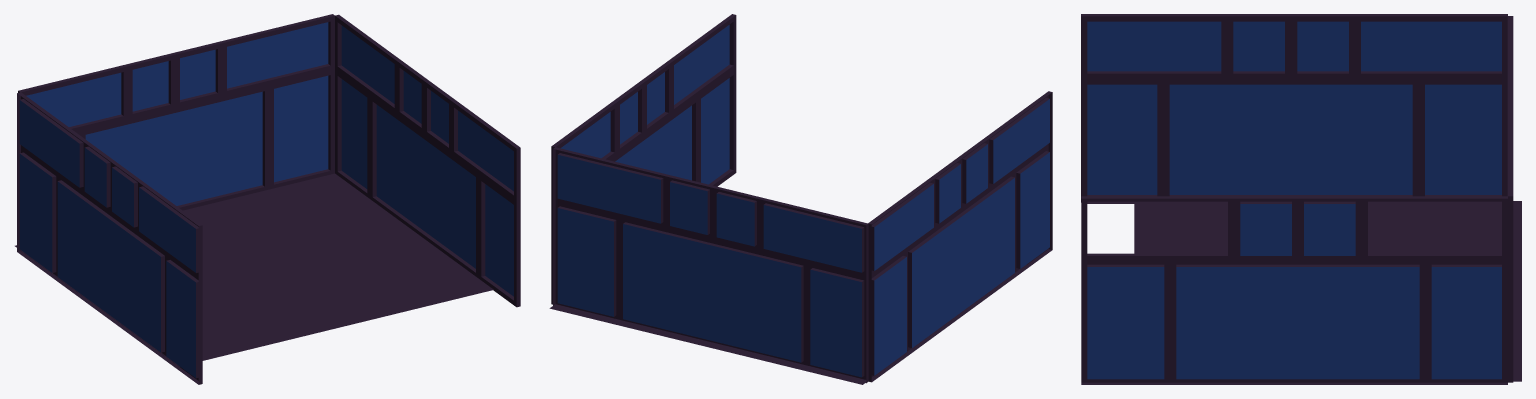
File: lab2.fbx
3 views of the same model, side by side, from view 1: azimuth 30°, elevation 25°; view 2: azimuth 150°, elevation 25°; view 3: azimuth 270°, elevation 25° (orthographic). The views are drawn at different scales.
Visible parts, largest first — view 1: lab2; view 2: lab2; view 3: lab2.
Part boxes in pixels (box(x1,y1,x2,y2)): lab2: box(15, 14, 520, 384); lab2: box(549, 14, 1052, 384); lab2: box(1081, 14, 1521, 384).
Size of the model in its own units: 23.39 by 11.02 by 23.61.
